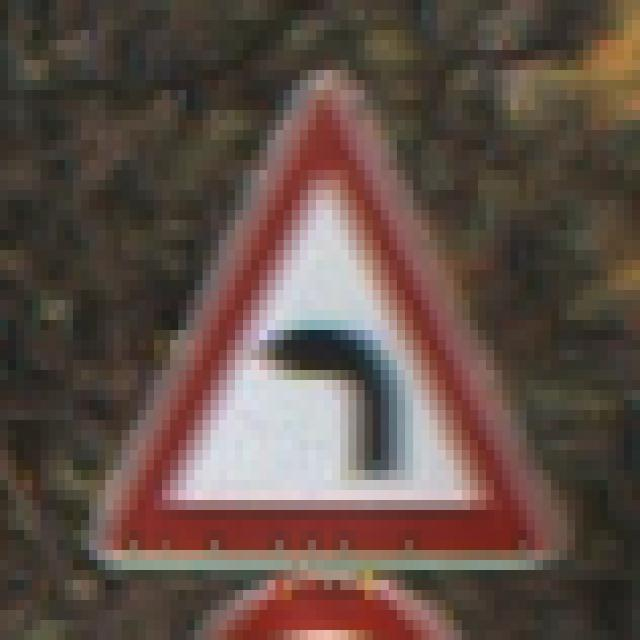left hand curve: (104, 76, 557, 552)
